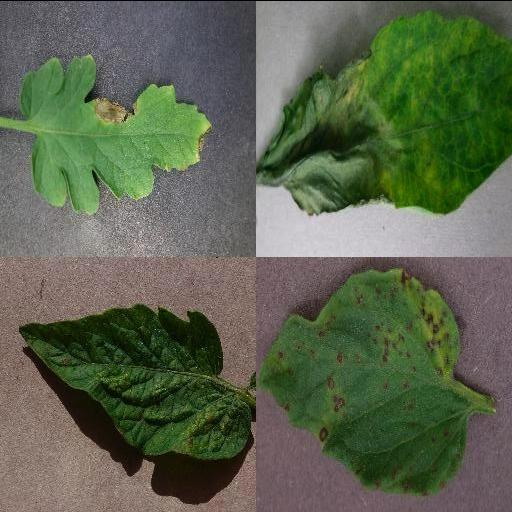Late Blight: (256, 11, 512, 219), (19, 51, 215, 217)
Septoria: (257, 266, 469, 496)
Spider Mites: (17, 303, 253, 459)
